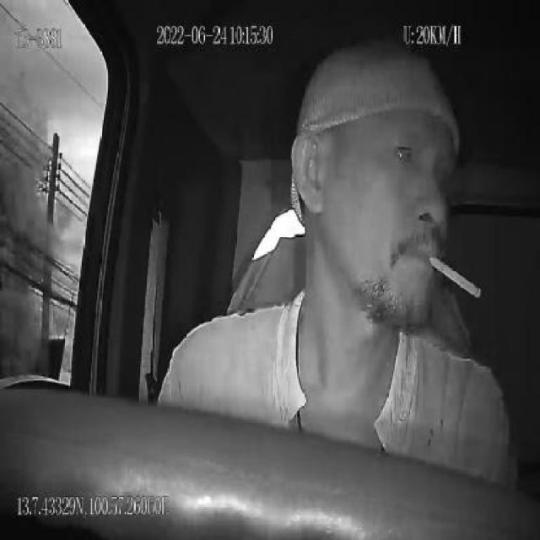smoking: (429, 258, 482, 301)
